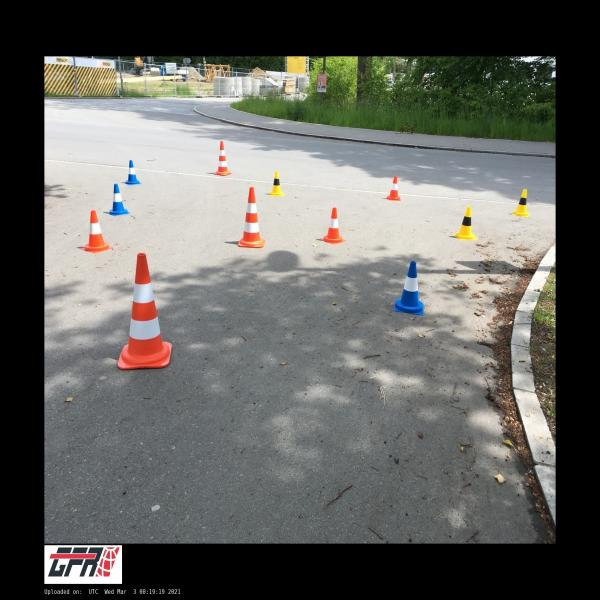blue_cone: (394, 261, 424, 316), (107, 184, 130, 215), (125, 160, 142, 186)
large_orange_cone: (118, 253, 172, 370), (238, 187, 264, 248), (214, 142, 231, 176)
orange_cone: (80, 210, 113, 252), (320, 208, 346, 244), (387, 176, 400, 201)
yellow_cone: (452, 206, 478, 240), (512, 190, 530, 218), (268, 170, 284, 196)
